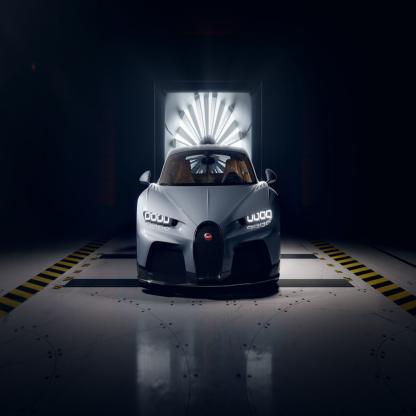car: (135, 146, 282, 286)
